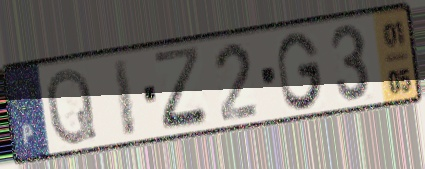2: (211, 39, 261, 124)
3: (329, 20, 375, 105)
G: (274, 29, 326, 113)
I: (110, 54, 139, 141)
Q: (44, 64, 100, 149)
Z: (150, 43, 213, 134)
